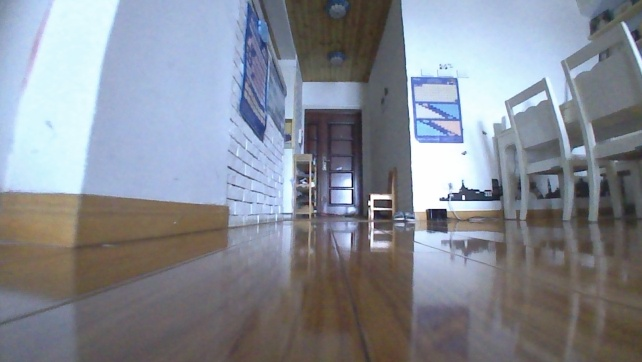dining_table: (495, 20, 641, 224)
door_anno: (301, 106, 365, 222)
wire: (445, 195, 504, 223)
